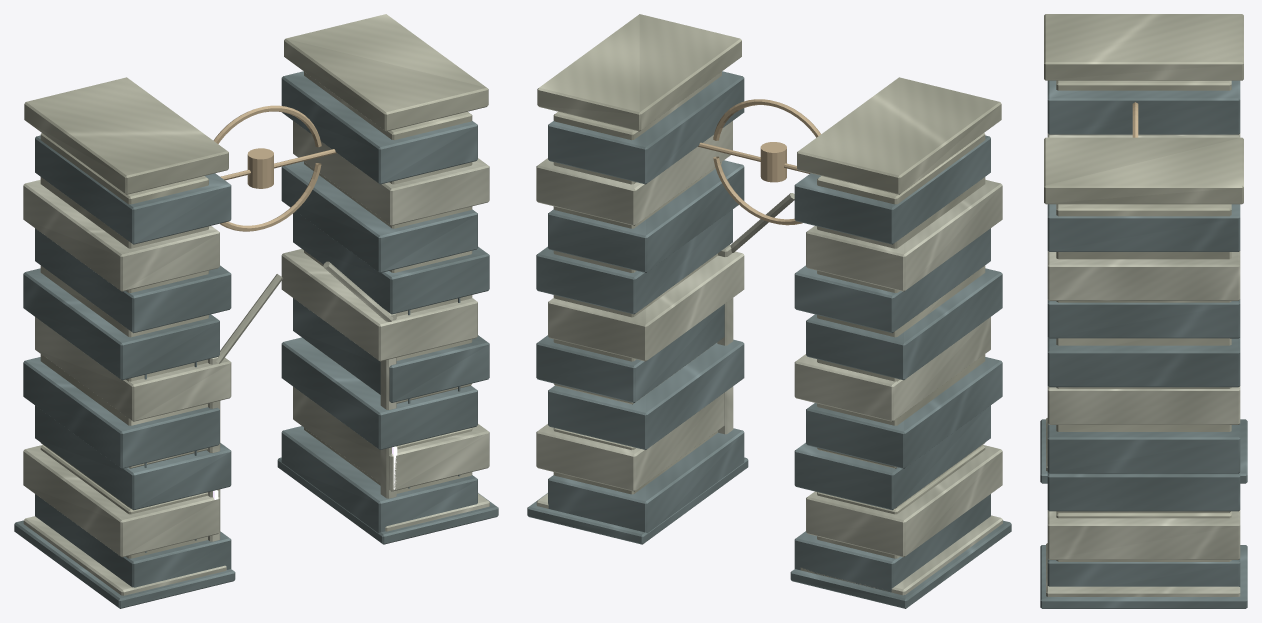
The model's file is portal-strata-v01.glb.
3 renders of one model, left to right at view 1: azimuth 30°, elevation 25°; view 2: azimuth 150°, elevation 25°; view 3: azimuth 270°, elevation 25°, orthographic. The views are drawn at different scales.
Parts seen in each view (by area): view 1: strata_Mumu_blue_slate, strata_Mumu_chisel_edges, strata_Mumu_ivory_limestone, strata_Mumu_satin_brass; view 2: strata_Mumu_blue_slate, strata_Mumu_chisel_edges, strata_Mumu_ivory_limestone, strata_Mumu_satin_brass; view 3: strata_Mumu_blue_slate, strata_Mumu_ivory_limestone, strata_Mumu_chisel_edges.
Boxes of the visible parts, x1=… form: strata_Mumu_blue_slate: x1=14, y1=71, x2=498, y2=608; strata_Mumu_chisel_edges: x1=23, y1=121, x2=489, y2=595; strata_Mumu_ivory_limestone: x1=24, y1=14, x2=488, y2=558; strata_Mumu_satin_brass: x1=213, y1=105, x2=336, y2=231; strata_Mumu_blue_slate: x1=527, y1=71, x2=1011, y2=608; strata_Mumu_chisel_edges: x1=536, y1=121, x2=1002, y2=595; strata_Mumu_ivory_limestone: x1=537, y1=14, x2=1001, y2=558; strata_Mumu_satin_brass: x1=698, y1=99, x2=820, y2=225; strata_Mumu_blue_slate: x1=1040, y1=80, x2=1247, y2=608; strata_Mumu_ivory_limestone: x1=1044, y1=14, x2=1243, y2=561; strata_Mumu_chisel_edges: x1=1046, y1=133, x2=1240, y2=596.
Bounding box in the file's own units: 6.2 × 6.7 × 3.
5 materials, 3 textured.
